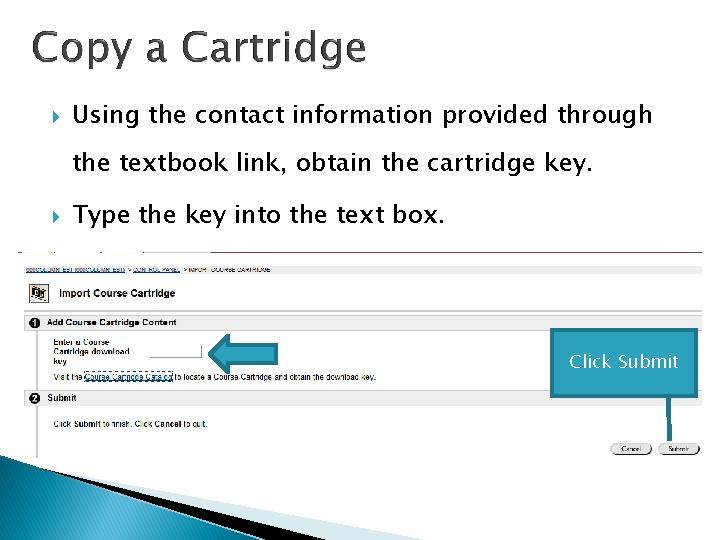paragraph: (14, 92, 720, 461)
title: (30, 18, 388, 76)
